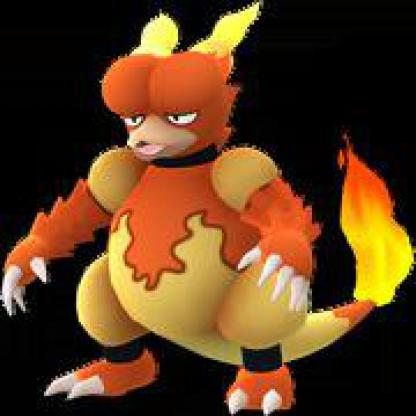Magmar: (1, 1, 410, 415)
